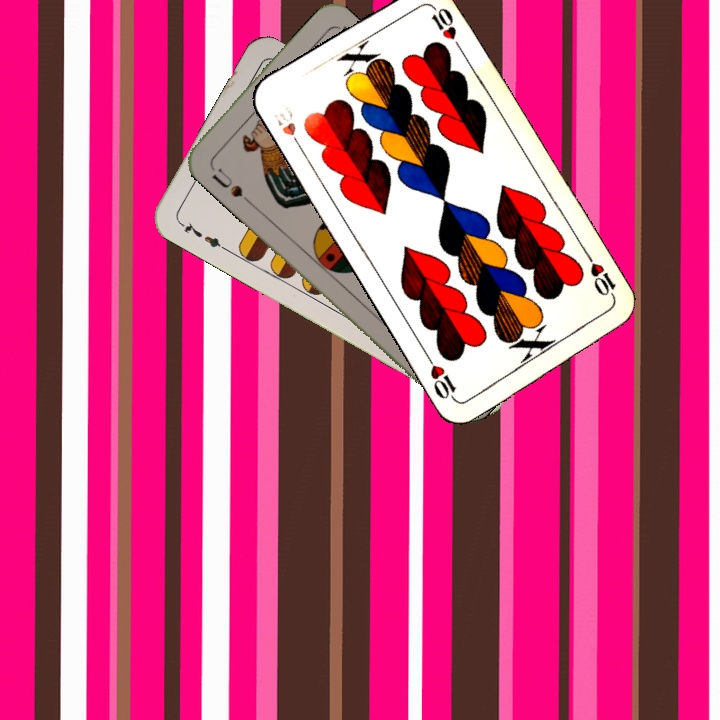E7: (175, 216, 229, 253)
H10: (582, 250, 619, 303), (271, 103, 306, 153)
SU: (206, 160, 253, 206)
